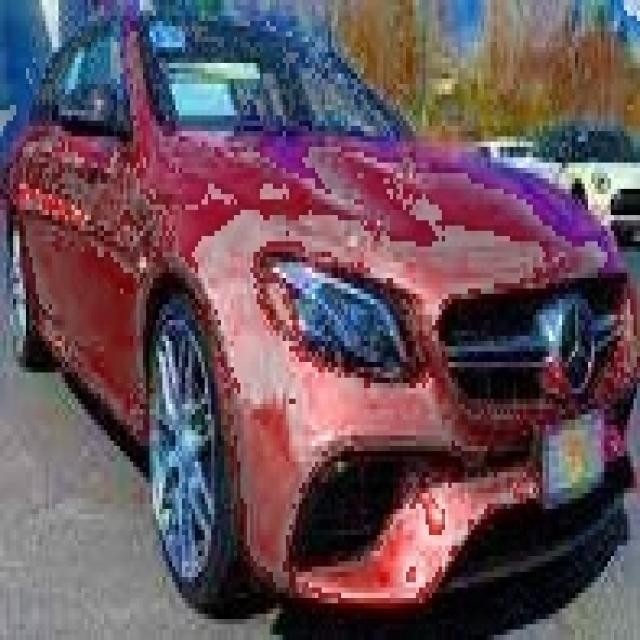maroon: (6, 2, 640, 616)
